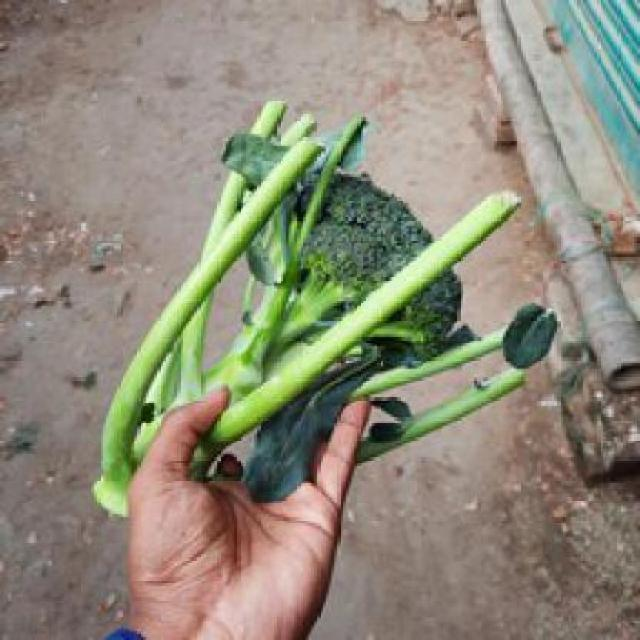broccoli: (73, 160, 490, 514)
